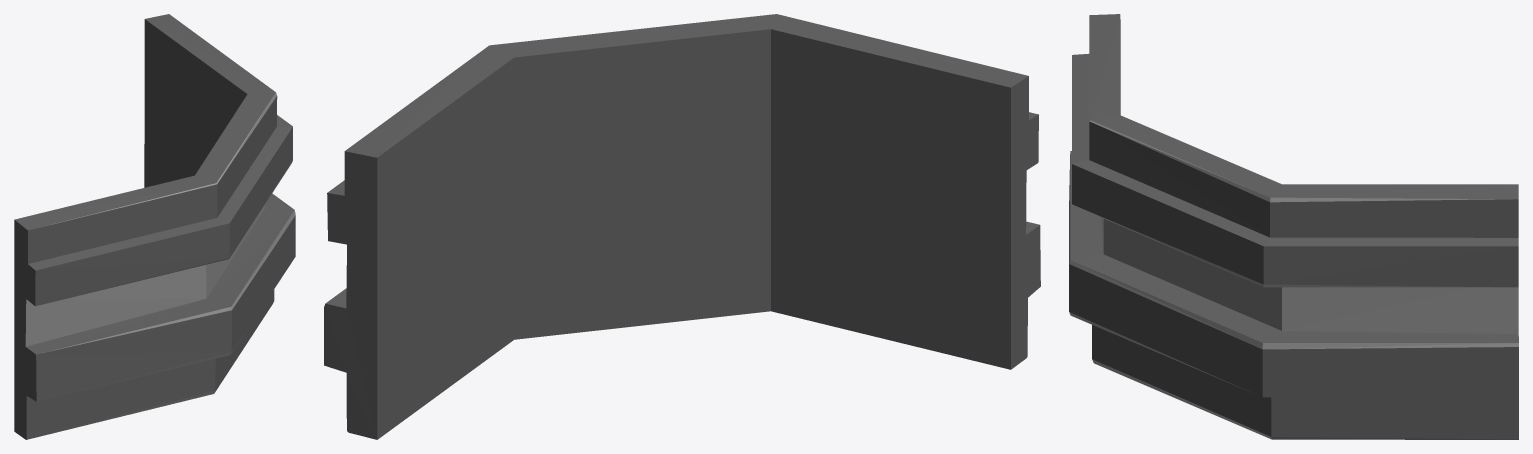
The model's file is MCastle_MasonryFixtures_04.FBX.
3 views of the same model, side by side, from view 1: azimuth 30°, elevation 25°; view 2: azimuth 150°, elevation 25°; view 3: azimuth 270°, elevation 25° (orthographic). The views are drawn at different scales.
Parts seen in each view (by area): view 1: MCastle_MasonryFixtures_04_LOD0; view 2: MCastle_MasonryFixtures_04_LOD0; view 3: MCastle_MasonryFixtures_04_LOD0.
Part boxes in pixels (box(x1,y1,x2,y2)): MCastle_MasonryFixtures_04_LOD0: box(14, 14, 295, 439); MCastle_MasonryFixtures_04_LOD0: box(324, 14, 1040, 439); MCastle_MasonryFixtures_04_LOD0: box(1069, 14, 1518, 439).
Size of what is drawn, in the model's own units: 4.63 by 2.73 by 4.57.
